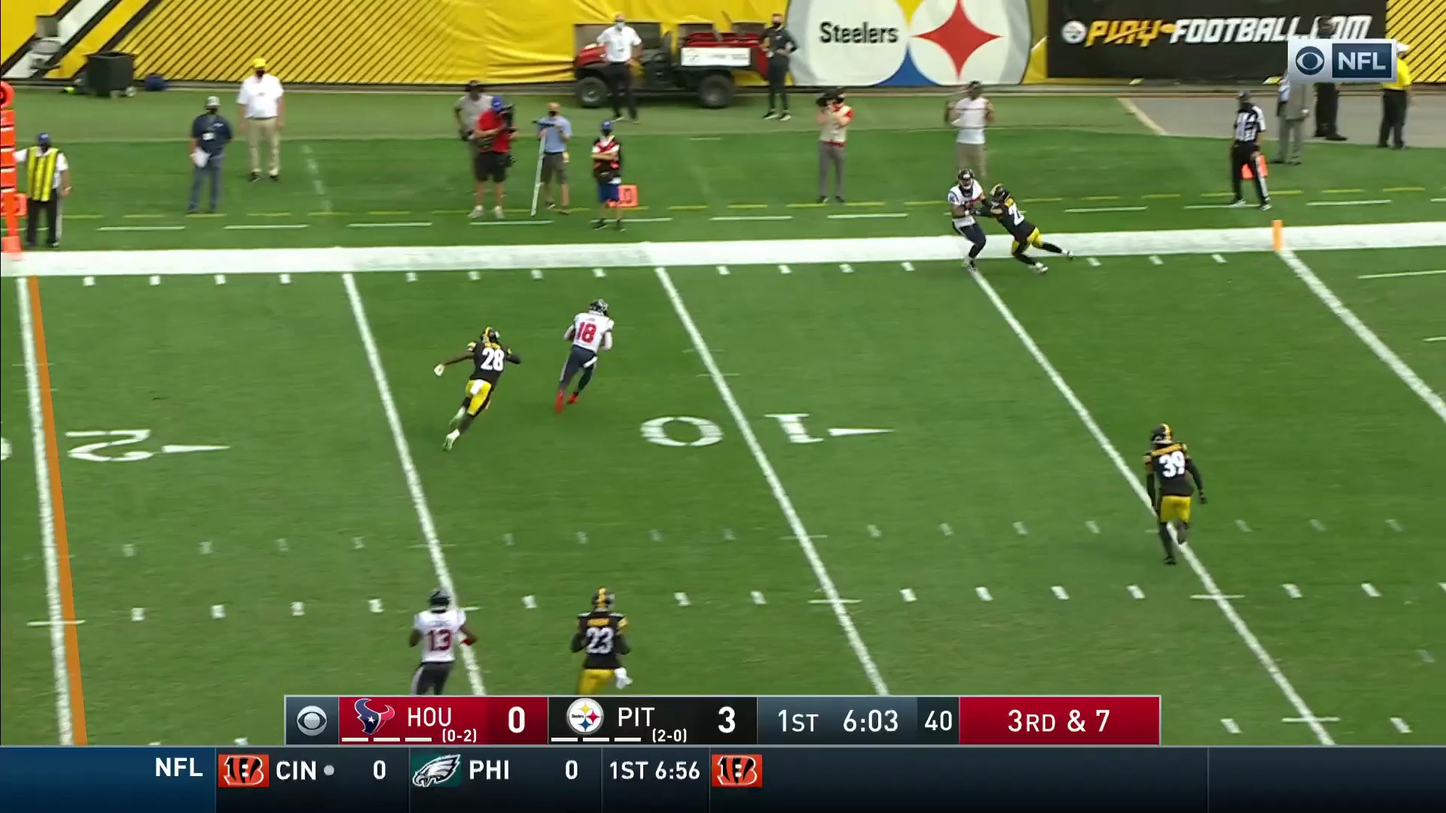Player: (1146, 424, 1204, 562), (555, 299, 612, 411), (411, 588, 466, 695), (948, 167, 987, 262)
